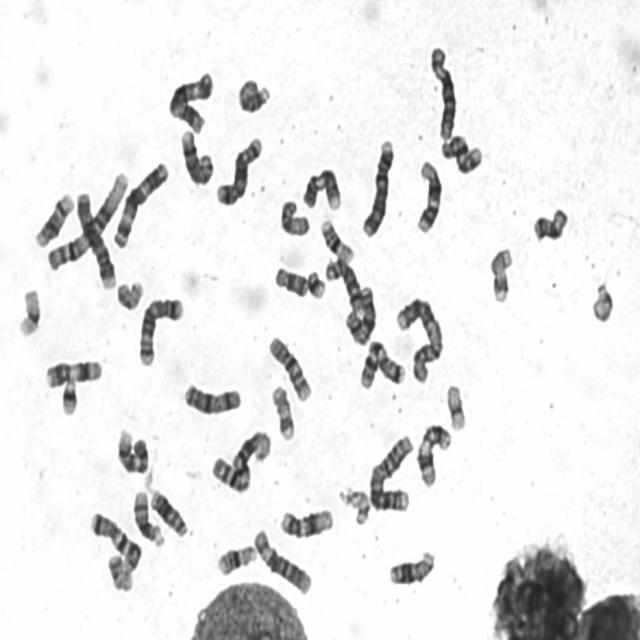A1: (46, 169, 129, 272), (210, 428, 272, 494)
A2: (396, 295, 445, 385), (368, 432, 414, 512)
A3: (112, 161, 168, 249), (167, 70, 214, 136)
B4: (76, 193, 118, 291), (360, 136, 397, 239)
B5: (216, 134, 263, 207), (138, 294, 184, 368)
C10: (266, 336, 312, 402), (440, 134, 484, 177)
C11: (416, 424, 452, 489), (46, 359, 101, 391)
C12: (413, 159, 444, 238), (280, 507, 333, 542)
C6: (252, 527, 313, 597), (429, 45, 458, 142)
C7: (88, 512, 142, 570), (361, 339, 406, 392)
C8: (324, 258, 364, 316), (179, 128, 214, 188)
C9: (302, 167, 343, 213), (116, 428, 150, 476)
D13: (148, 488, 190, 538), (388, 548, 436, 589)
D14: (34, 190, 75, 250), (132, 489, 167, 546)
D15: (236, 78, 272, 116), (278, 198, 311, 237)
E16: (320, 218, 355, 266), (216, 544, 257, 576)
E17: (271, 386, 297, 444), (490, 247, 515, 305)
E18: (532, 205, 570, 242), (273, 265, 310, 299)
F19: (19, 289, 45, 339), (446, 380, 467, 432)
F20: (105, 552, 133, 594), (116, 277, 145, 311)
G21: (61, 374, 80, 418), (306, 270, 327, 300)
G22: (590, 282, 616, 325), (345, 488, 371, 529)
X: (184, 381, 242, 415), (345, 284, 376, 347)
